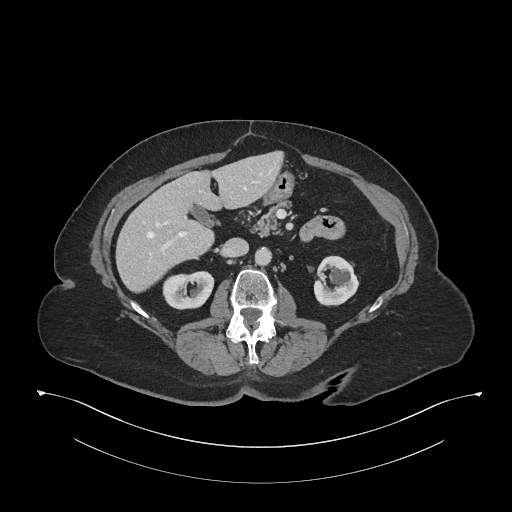Lesion: (329, 263, 353, 290)
